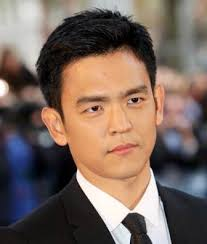asian_male: (67, 78, 157, 168)
